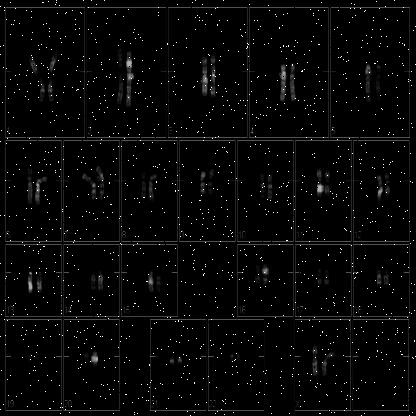1: (24, 47, 46, 104), (48, 47, 62, 104)
10: (258, 170, 266, 203), (266, 171, 274, 204)
11: (314, 164, 324, 200), (324, 166, 331, 199)
12: (382, 170, 392, 204), (376, 171, 384, 204)
13: (27, 268, 34, 297), (36, 270, 43, 298)
14: (89, 267, 97, 294), (97, 266, 104, 294)
15: (146, 269, 155, 294), (155, 271, 163, 295)
16: (253, 262, 261, 288), (262, 262, 270, 288)
17: (323, 266, 330, 289), (316, 266, 323, 288)
18: (375, 265, 383, 288), (382, 268, 390, 288)
19: (34, 348, 42, 368), (26, 348, 32, 368)
2: (124, 48, 136, 109), (116, 43, 122, 108)
20: (90, 348, 100, 369), (82, 348, 90, 367)
21: (167, 354, 176, 368), (176, 353, 184, 368)
22: (228, 350, 236, 372), (235, 351, 242, 372)
3: (209, 51, 219, 100), (200, 53, 210, 100)
4: (278, 60, 288, 104), (288, 60, 298, 104)
5: (374, 60, 384, 106), (364, 61, 374, 105)
6: (35, 174, 50, 207), (25, 165, 34, 209)
7: (80, 169, 97, 203), (94, 162, 106, 204)
8: (148, 172, 158, 204), (140, 167, 148, 202)
9: (199, 168, 207, 202), (207, 167, 215, 200)
X: (321, 349, 337, 380), (311, 341, 319, 381)
